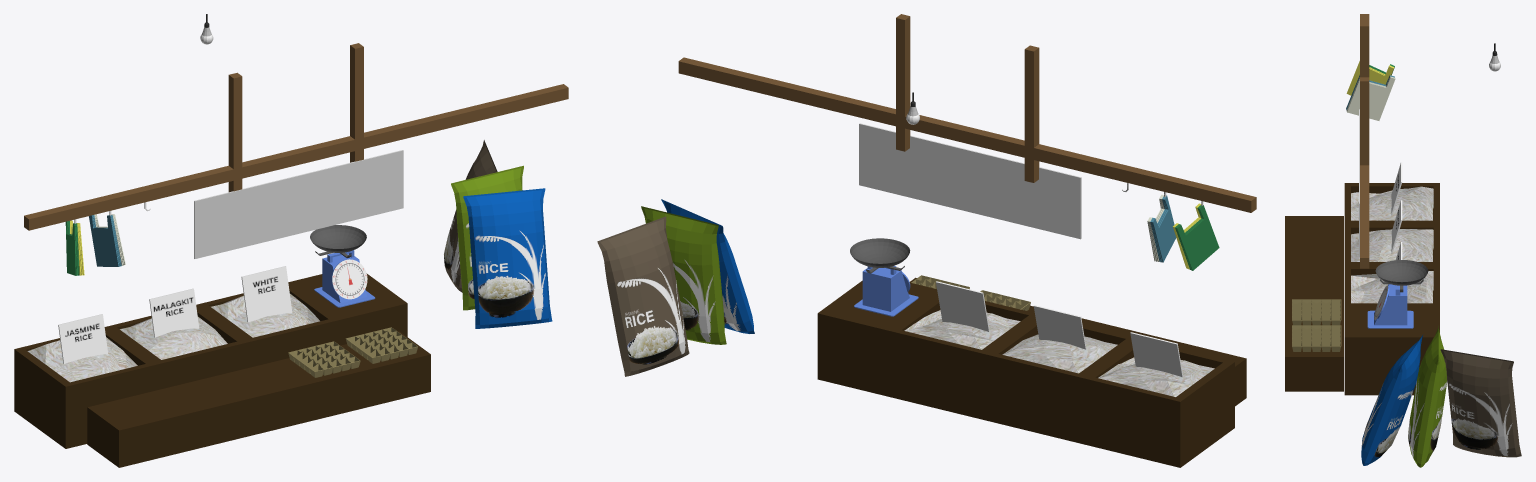
File: bigasan.fbx
3 renders of one model, left to right at view 1: azimuth 30°, elevation 25°; view 2: azimuth 150°, elevation 25°; view 3: azimuth 270°, elevation 25°, orthographic. The views are drawn at different scales.
Parts seen in each view (by area): view 1: table.001, table, stallname, bigasan, ricesack, ricesack.001, Bigas.004, Bigas.005, Sign.004, Bigas.003, Sign.006, Sign.005 (+8 smaller); view 2: table, bigasan, stallname, ricesack.002, ricesack.001, ricesack, Bigas.004, Bigas.005, Bigas.003, scale, Sign.004, Plastic.020 (+5 smaller); view 3: table, table.001, ricesack.002, ricesack, ricesack.001, bigasan, Bigas.004, Bigas.005, Bigas.003, scale, Tray.002, Tray.003 (+5 smaller).
Boxes of the visible parts, left/top/right/bottom form: table.001: left=87, top=331, right=430, bottom=467; table: left=14, top=273, right=407, bottom=448; stallname: left=194, top=150, right=403, bottom=258; bigasan: left=24, top=43, right=568, bottom=230; ricesack: left=463, top=188, right=552, bottom=328; ricesack.001: left=451, top=165, right=523, bottom=310; Bigas.004: left=120, top=316, right=227, bottom=359; Bigas.005: left=27, top=337, right=137, bottom=382; Sign.004: left=241, top=266, right=292, bottom=322; Bigas.003: left=211, top=294, right=319, bottom=337; Sign.006: left=58, top=314, right=108, bottom=363; Sign.005: left=149, top=288, right=199, bottom=337; table: left=817, top=280, right=1234, bottom=467; bigasan: left=678, top=14, right=1256, bottom=212; stallname: left=859, top=123, right=1081, bottom=239; ricesack.002: left=597, top=216, right=689, bottom=376; ricesack.001: left=641, top=206, right=726, bottom=344; ricesack: left=661, top=199, right=754, bottom=333; Bigas.004: left=1002, top=334, right=1117, bottom=373; Bigas.005: left=1098, top=357, right=1214, bottom=396; Bigas.003: left=904, top=310, right=1020, bottom=349; scale: left=854, top=266, right=918, bottom=316; Sign.004: left=936, top=281, right=989, bottom=331; Plastic.020: left=1173, top=203, right=1219, bottom=270; table: left=1344, top=183, right=1439, bottom=395; table.001: left=1285, top=216, right=1343, bottom=391; ricesack.002: left=1440, top=349, right=1521, bottom=457; ricesack: left=1361, top=334, right=1423, bottom=465; ricesack.001: left=1408, top=326, right=1447, bottom=467; bigasan: left=1360, top=14, right=1369, bottom=268; Bigas.004: left=1351, top=229, right=1433, bottom=261; Bigas.005: left=1351, top=186, right=1433, bottom=220; Bigas.003: left=1351, top=271, right=1433, bottom=303; scale: left=1367, top=284, right=1413, bottom=328; Tray.002: left=1292, top=325, right=1341, bottom=351; Tray.003: left=1292, top=299, right=1341, bottom=325.
Size of the model in its own units: 10.41 by 5.98 by 4.27.
Materials: 21 (8 with a texture image).
